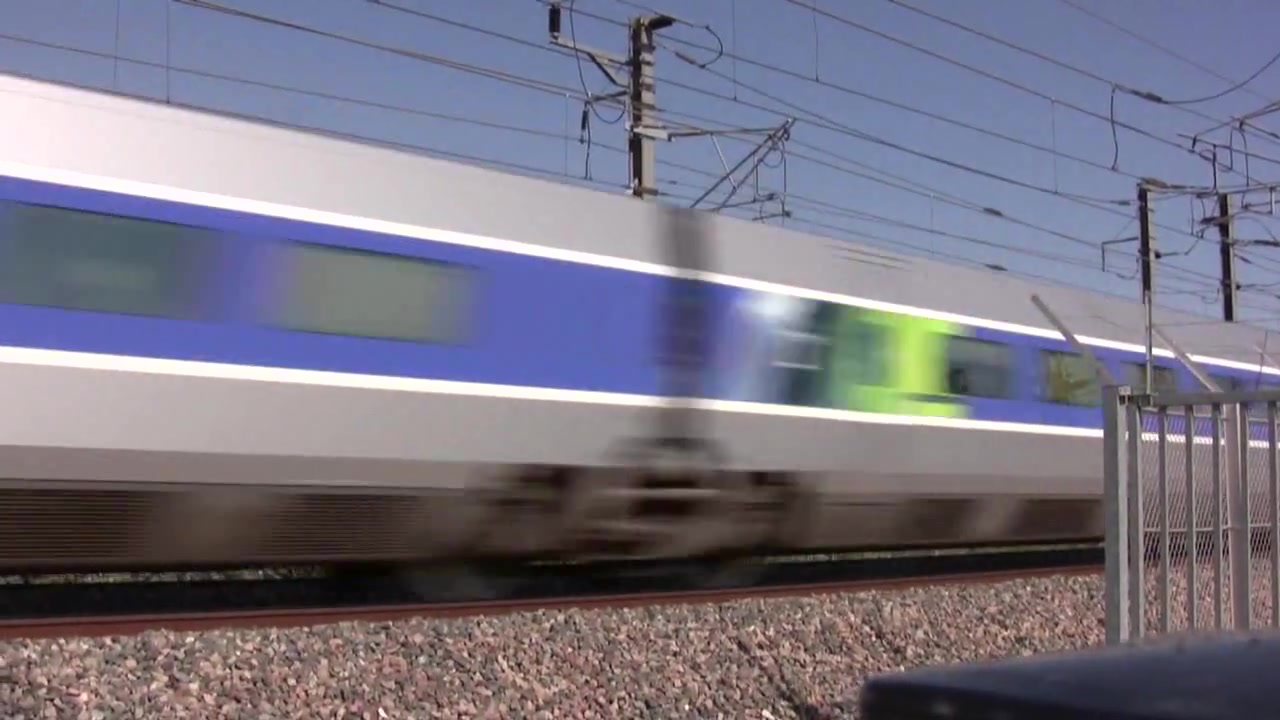train: (1, 68, 1280, 579)
